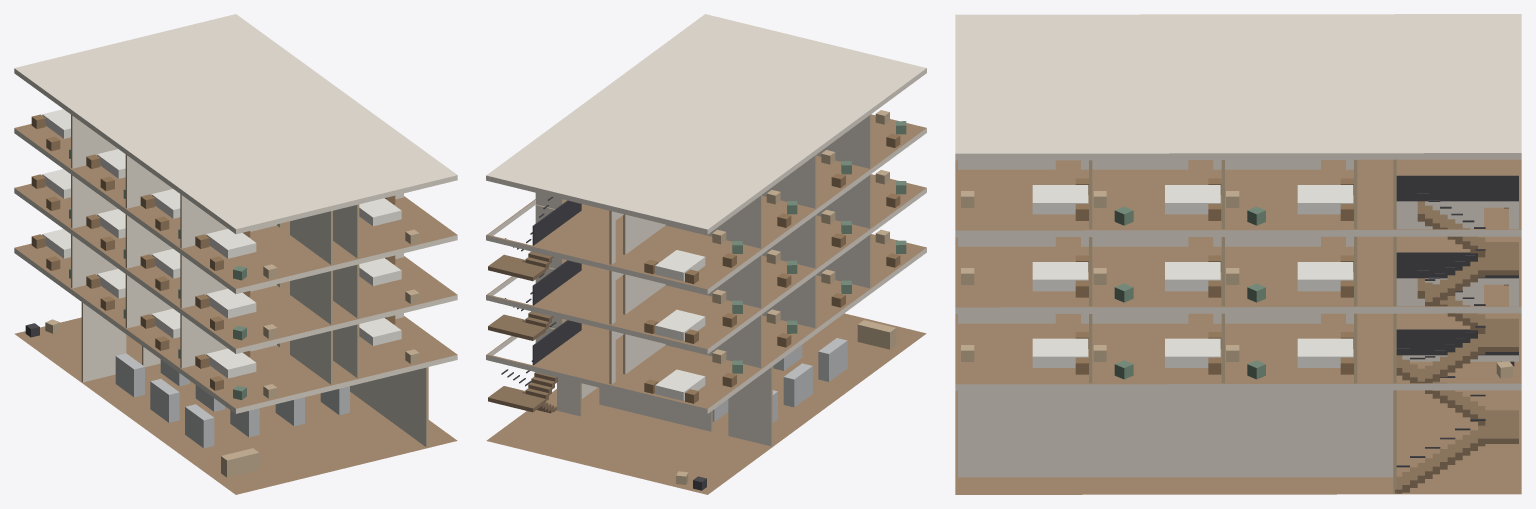
File: interior.glb
3 views of the same model, side by side, from view 1: azimuth 30°, elevation 25°; view 2: azimuth 150°, elevation 25°; view 3: azimuth 270°, elevation 25° (orthographic). The views are drawn at different scales.
Visible parts, largest first — view 1: slabs, partitions, coarse-s0, coarse-s2, coarse-s1, coarse-s3; view 2: slabs, partitions, stair, coarse-s0, coarse-s1, coarse-s2, coarse-s3; view 3: slabs, partitions, stair, coarse-s1, coarse-s2, coarse-s3.
Boxes of the visible parts, <box> form: slabs: <box>14,14,457,494</box>; partitions: <box>71,115,428,447</box>; coarse-s0: <box>25,319,349,477</box>; coarse-s2: <box>31,169,419,340</box>; coarse-s1: <box>31,229,419,400</box>; coarse-s3: <box>31,109,419,280</box>; slabs: <box>486,14,926,494</box>; partitions: <box>535,114,871,446</box>; stair: <box>488,196,581,413</box>; coarse-s0: <box>676,320,896,490</box>; coarse-s1: <box>644,229,906,403</box>; coarse-s2: <box>644,170,906,343</box>; coarse-s3: <box>644,110,906,284</box>; slabs: <box>955,14,1521,494</box>; partitions: <box>958,159,1518,493</box>; stair: <box>1395,175,1518,493</box>; coarse-s1: <box>961,284,1508,379</box>; coarse-s2: <box>961,207,1508,302</box>; coarse-s3: <box>961,178,1353,225</box>.
Size of the model in its own units: 11.84 by 13.5 by 20.28.
